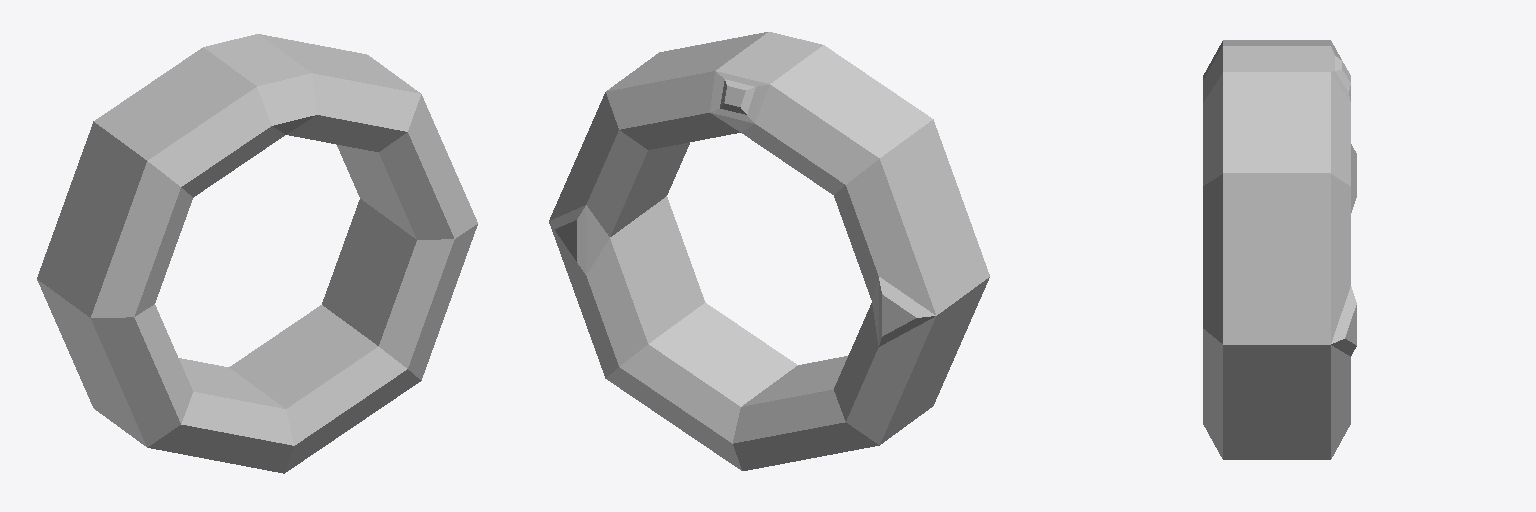
File: checkpoint.obj
The picture shows the model from 3 angles: view 1: azimuth 30°, elevation 25°; view 2: azimuth 150°, elevation 25°; view 3: azimuth 270°, elevation 25°; orthographic projection.
Parts seen in each view (by area): view 1: Cylinder; view 2: Cylinder; view 3: Cylinder.
Part boxes in pixels (x1,y1,x2,y2): Cylinder: (37, 34, 477, 473); Cylinder: (549, 32, 989, 470); Cylinder: (1203, 40, 1356, 459).
Size of the model in its own units: 16.26 by 15.79 by 5.6.